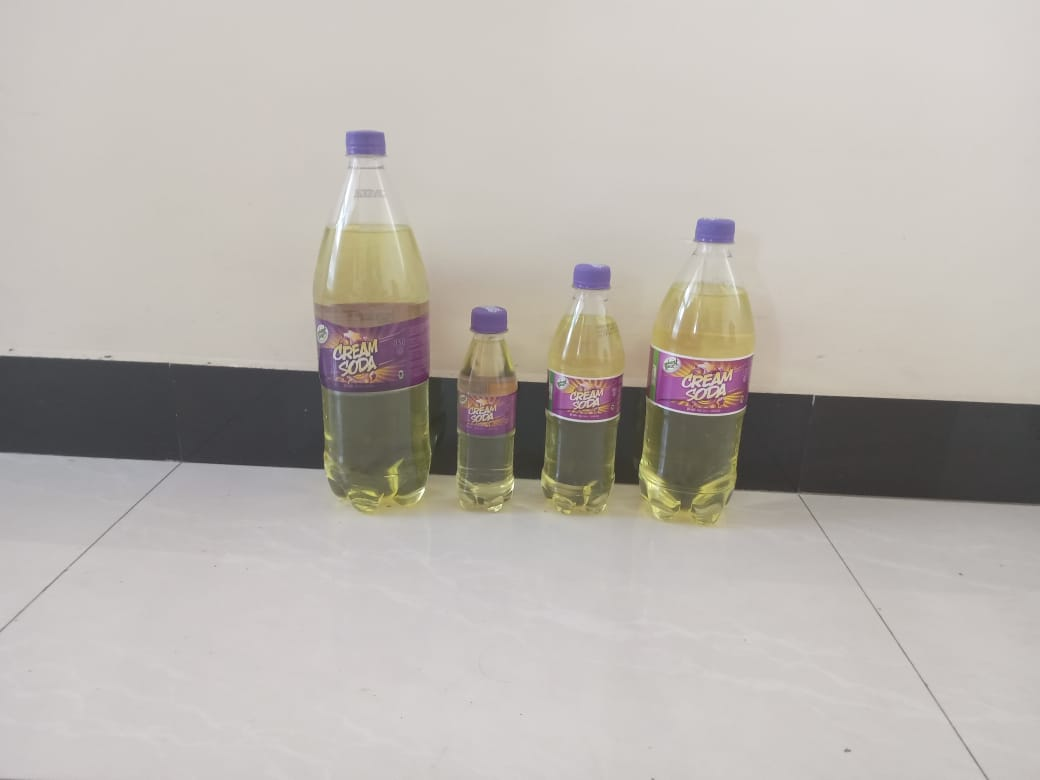L: (306, 132, 436, 513)
M: (638, 221, 753, 522)
S: (540, 264, 622, 522)
Xs: (452, 305, 522, 513)
